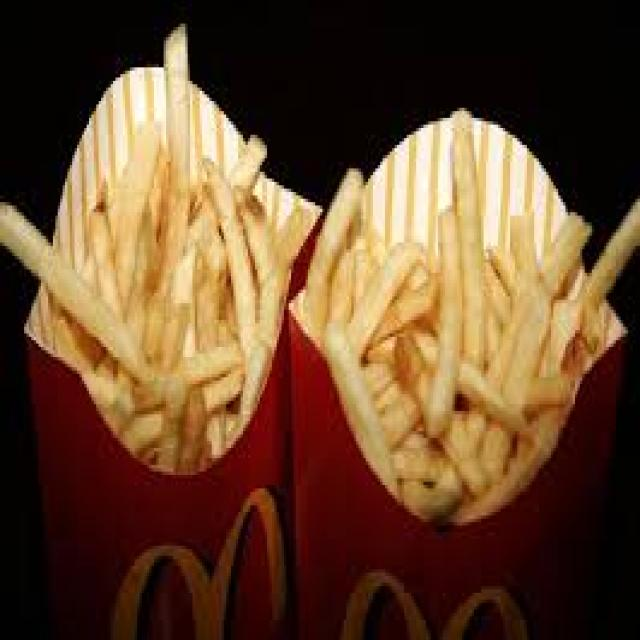Fries: (38, 97, 293, 640), (337, 154, 606, 640)
